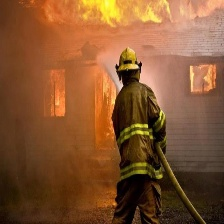fire: (38, 1, 213, 29), (186, 62, 220, 97)
smoke: (13, 44, 99, 178)
